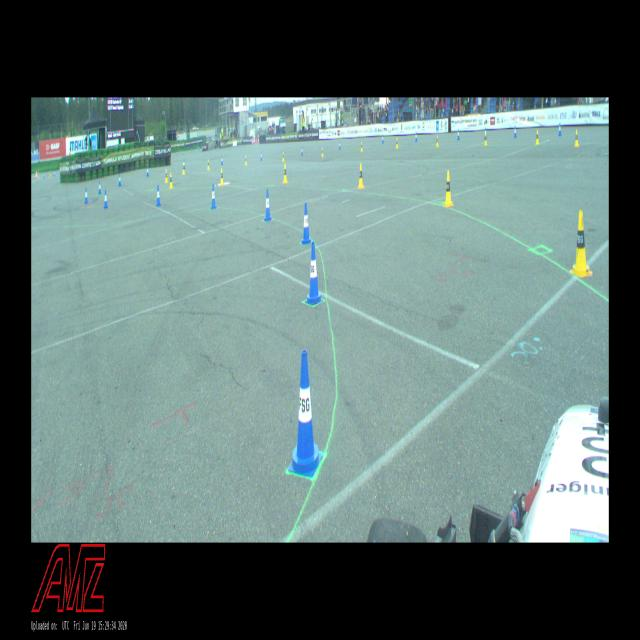blue_cone: (289, 350, 322, 477), (305, 242, 322, 305), (301, 203, 311, 244), (264, 189, 272, 221), (210, 184, 217, 208), (156, 185, 161, 206), (104, 190, 108, 208), (84, 188, 88, 204), (558, 122, 562, 136), (98, 181, 102, 194), (457, 129, 460, 140), (514, 125, 516, 138), (119, 174, 121, 186), (221, 155, 223, 165), (382, 134, 384, 144), (416, 132, 418, 142), (146, 166, 148, 176), (339, 141, 341, 150), (301, 147, 303, 155), (260, 152, 262, 160)
yellow_cone: (571, 211, 592, 276), (443, 171, 454, 207), (358, 163, 364, 188), (282, 163, 288, 183), (574, 129, 579, 147), (220, 168, 224, 185), (536, 129, 540, 144), (164, 169, 168, 183), (170, 172, 173, 188), (484, 132, 487, 146), (182, 161, 185, 174), (207, 158, 210, 170), (436, 135, 439, 147), (245, 155, 247, 165), (396, 138, 398, 148), (322, 147, 324, 157), (282, 152, 284, 161), (360, 142, 362, 151)
